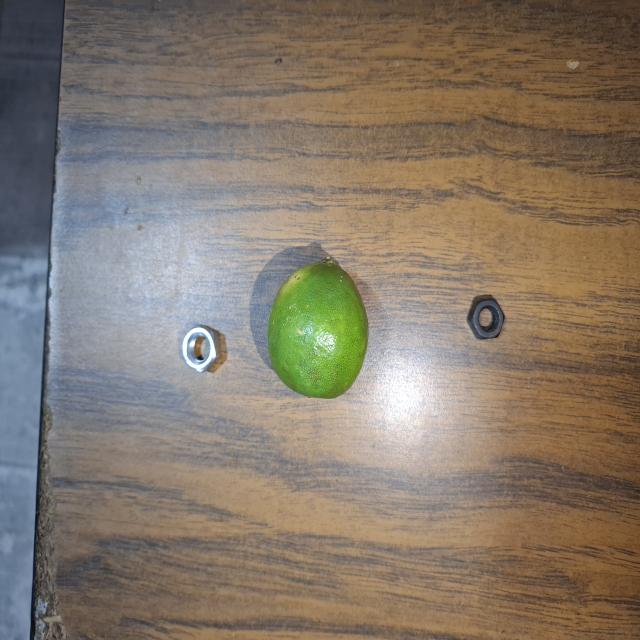limon: (256, 244, 374, 402)
milimetrico: (448, 272, 510, 348)
tuerca: (169, 307, 226, 380)
